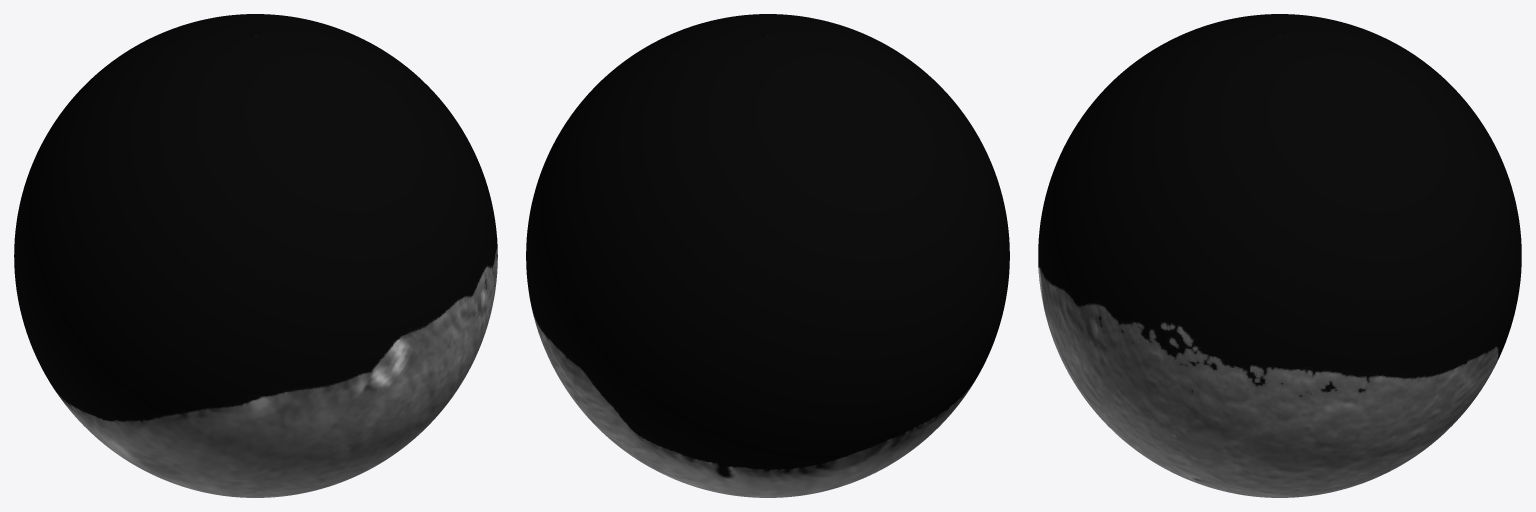
The model's file is umbriel.glb.
3 renders of one model, left to right at view 1: azimuth 30°, elevation 25°; view 2: azimuth 150°, elevation 25°; view 3: azimuth 270°, elevation 25°, orthographic.
Visible parts, largest first — view 1: Umbriel_Asset; view 2: Umbriel_Asset; view 3: Umbriel_Asset.
Part boxes in pixels (<box>): Umbriel_Asset: <box>14,14,497,497</box>; Umbriel_Asset: <box>526,14,1009,497</box>; Umbriel_Asset: <box>1038,14,1521,497</box>.
Bounding box in the file's own units: 0.3994 × 0.4 × 0.3994.
Materials: 1 (1 with a texture image).
